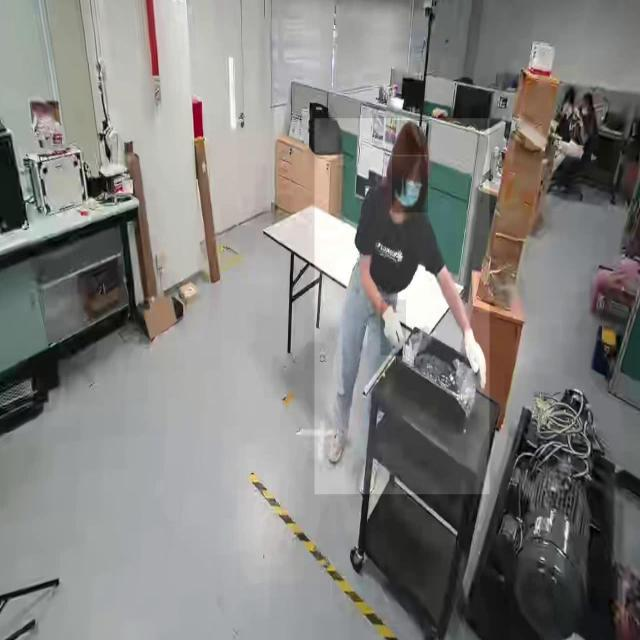face_mask: (392, 156, 428, 212)
hand_glove: (461, 320, 488, 385), (381, 299, 406, 356)
head_nohelmet: (392, 120, 428, 156)
person: (314, 118, 490, 495)
shoes: (326, 417, 351, 470)
